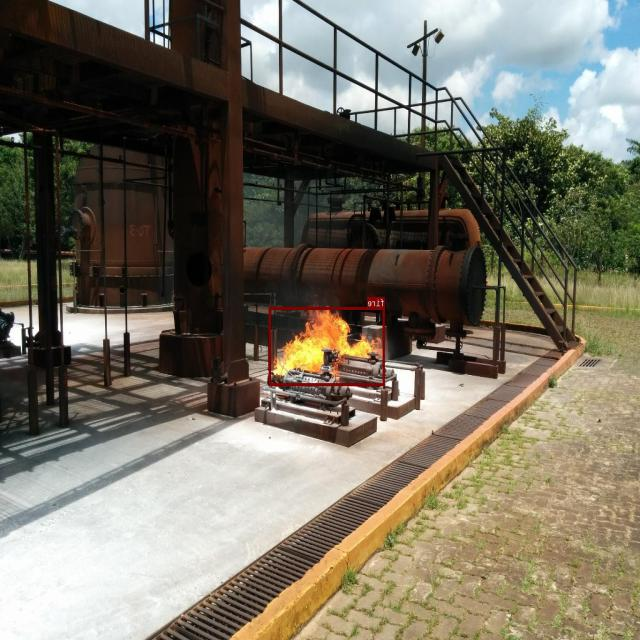fire: (269, 306, 385, 386)
